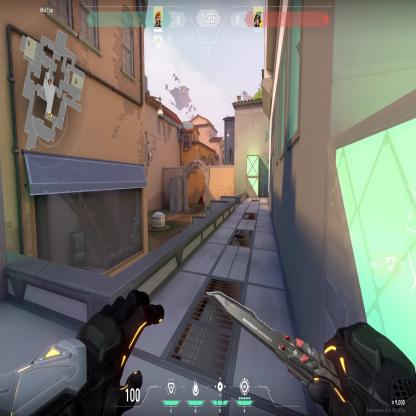enemy: (202, 192, 205, 212)
